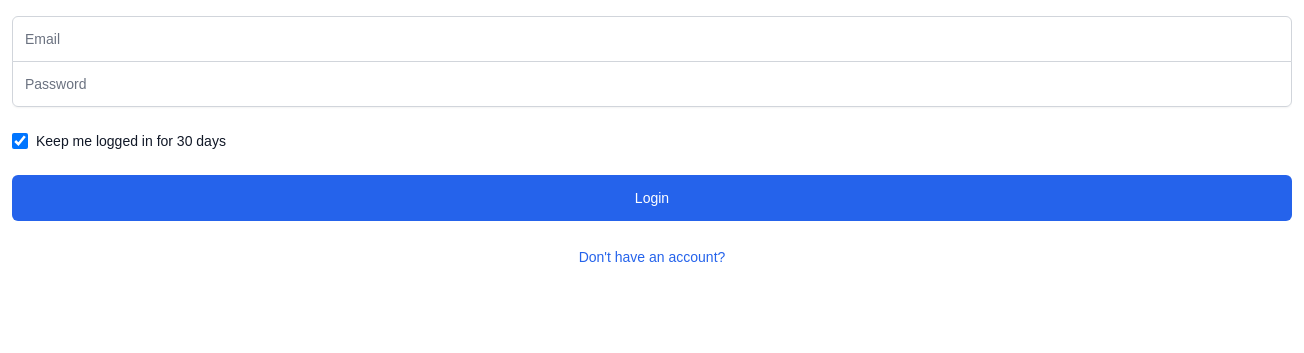
LoginForm › Form Validation › should show error for empty email
Type "password123" into the password field with placeholder "Password" at coordinates (652, 84), box [12, 61, 1292, 107]
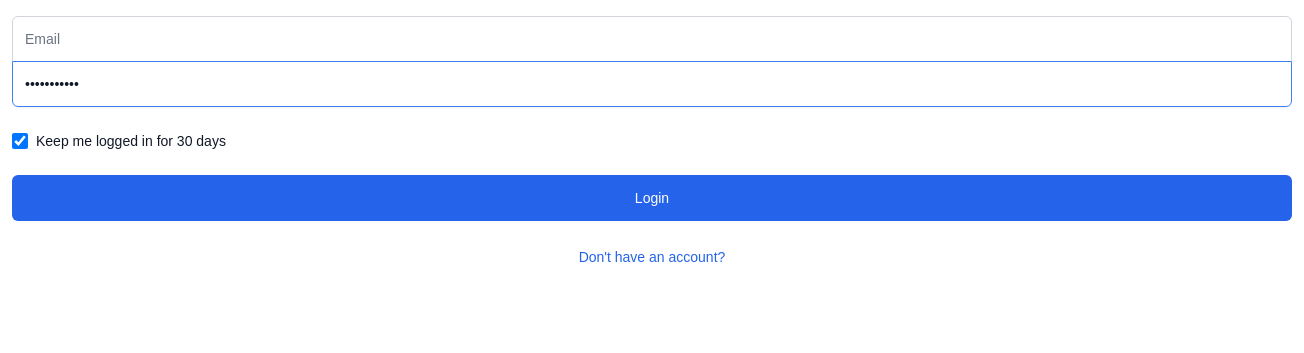
Click the button "Login" at coordinates (652, 198), box [12, 175, 1292, 221]
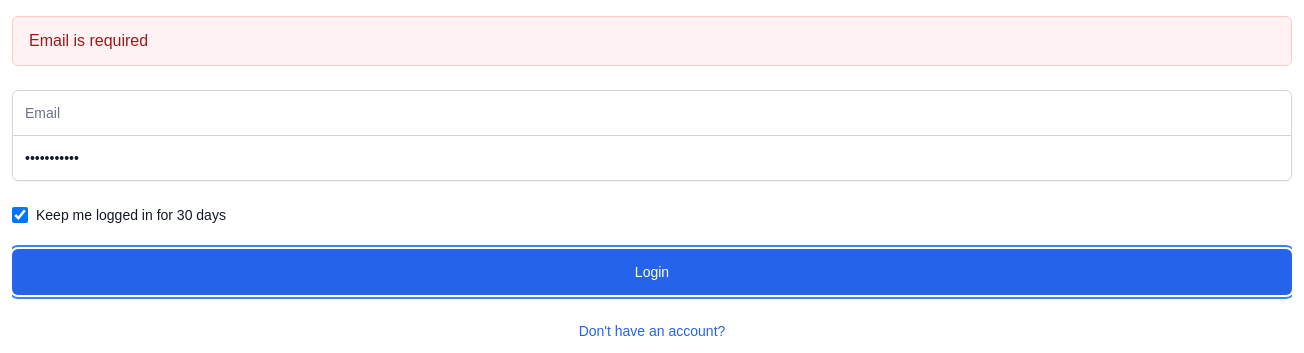
Now the text "Email is required" is shown, box [12, 16, 1292, 66]
